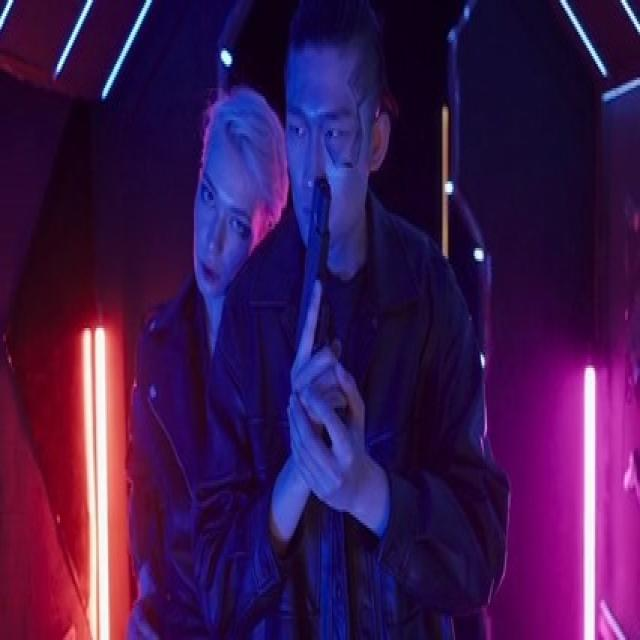Gun_Holder: (282, 176, 367, 498)
Jacket_Wearer: (218, 192, 506, 640), (125, 276, 222, 630)
Person: (220, 0, 508, 640), (132, 84, 289, 624)
